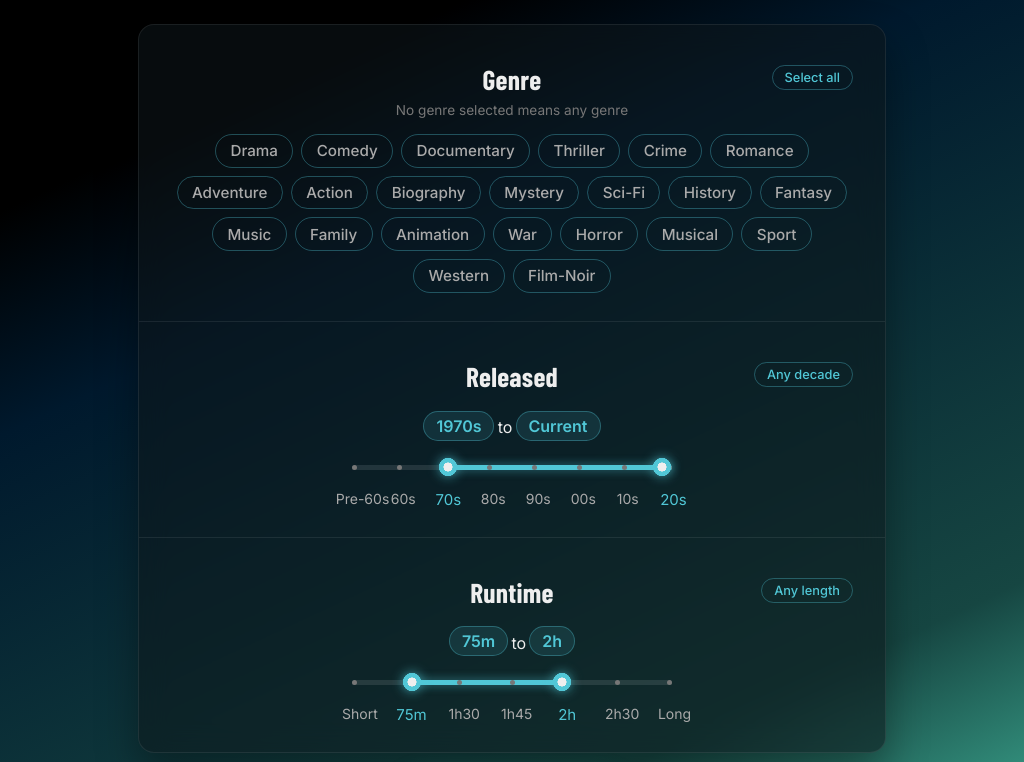
Test: <ChoiceFormContainer/> › genre all button label reflects what it will do
The width and height of the screenshot is (1024, 762).
Click the button with test id "genre-all-btn" at (812, 78), box [772,65,853,90]
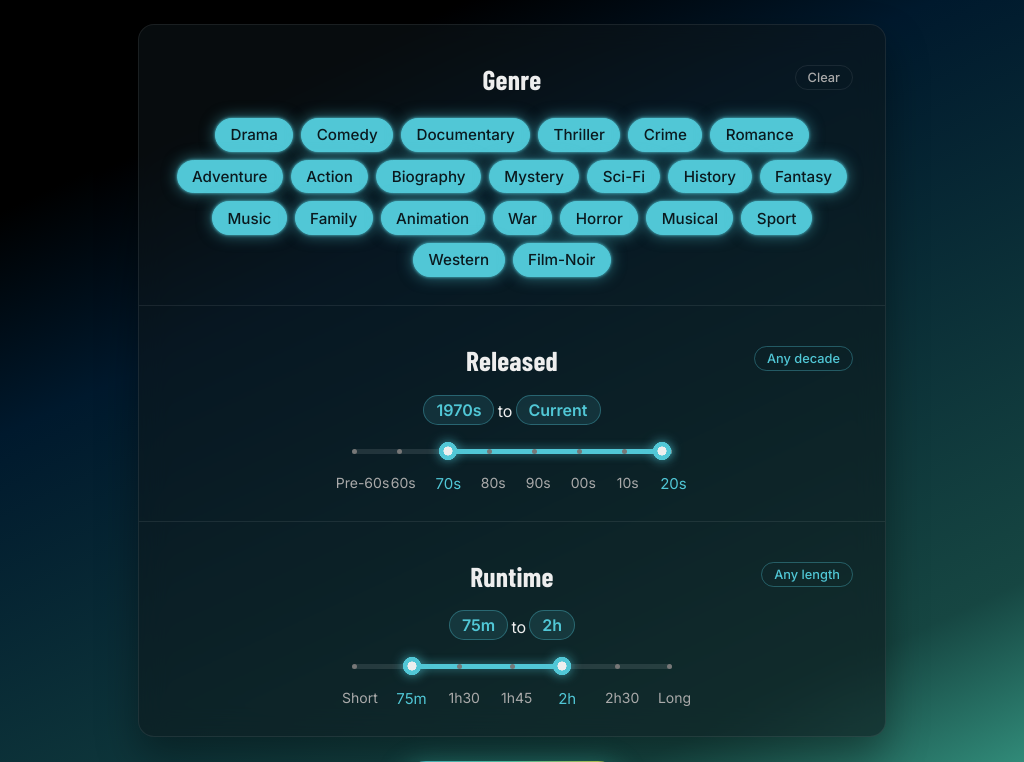
Expected: the button with test id "genre-all-btn" reads "Clear", [794,65,853,90]
